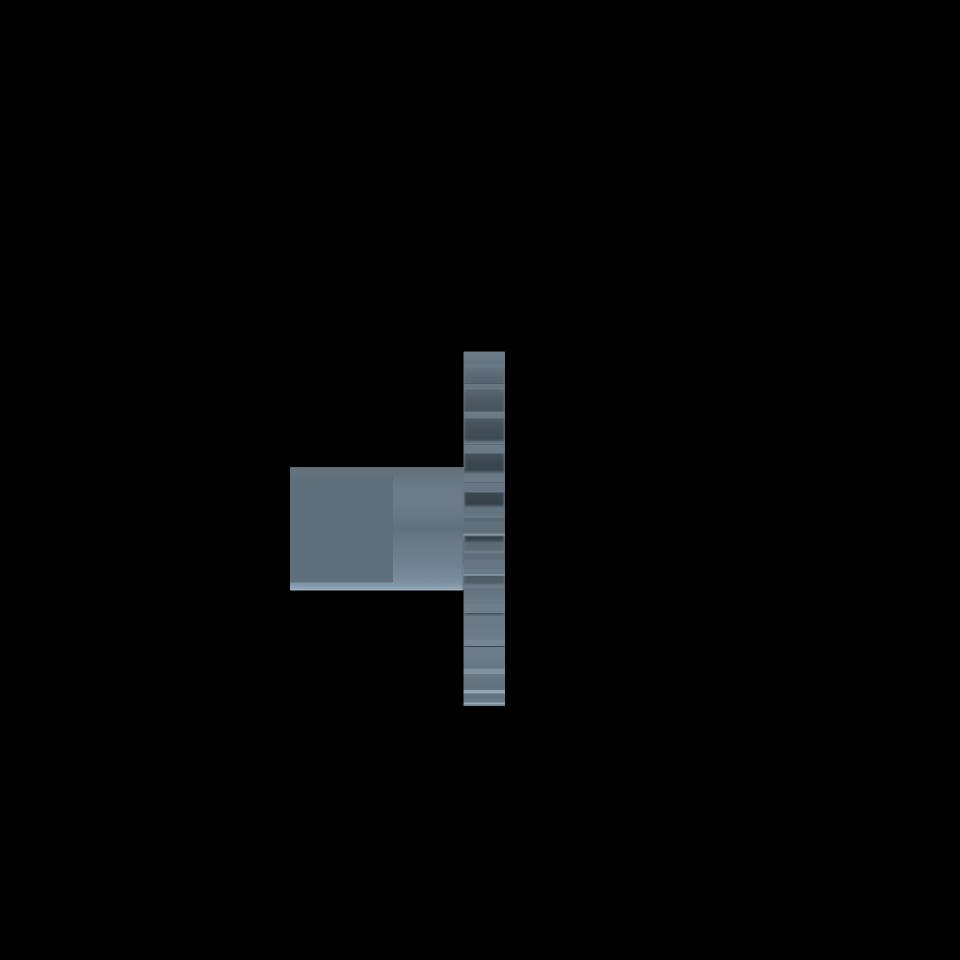Straight: (463, 352, 506, 704)
